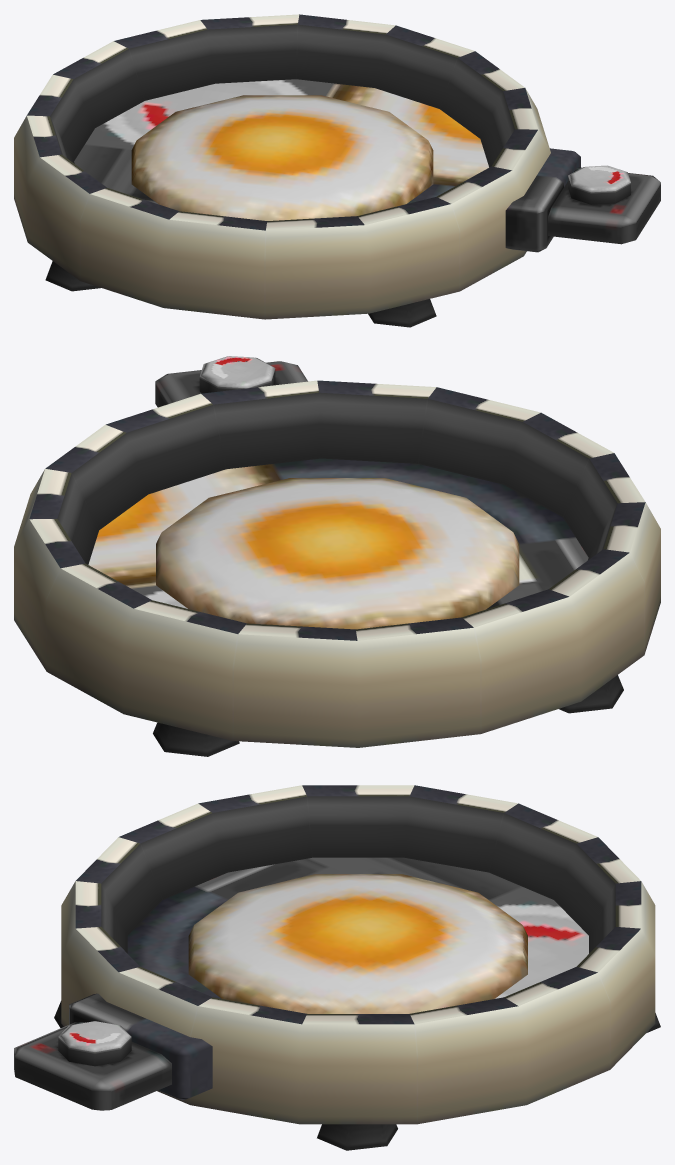
File: rmk_oth_hotplate.dae
3 views of the same model, one above another, from view 1: azimuth 30°, elevation 25°; view 2: azimuth 150°, elevation 25°; view 3: azimuth 270°, elevation 25° (orthographic). The views are drawn at different scales.
Visible parts, largest first — view 1: rmk_oth_hotplate; view 2: rmk_oth_hotplate; view 3: rmk_oth_hotplate.
Boxes of the visible parts, x1,y1,x2,y2 form: rmk_oth_hotplate: (14, 14, 660, 327); rmk_oth_hotplate: (14, 356, 660, 756); rmk_oth_hotplate: (14, 785, 660, 1150).
Bounding box in the file's own units: 26.36 × 5.32 × 26.59.
1 material, 1 textured.
